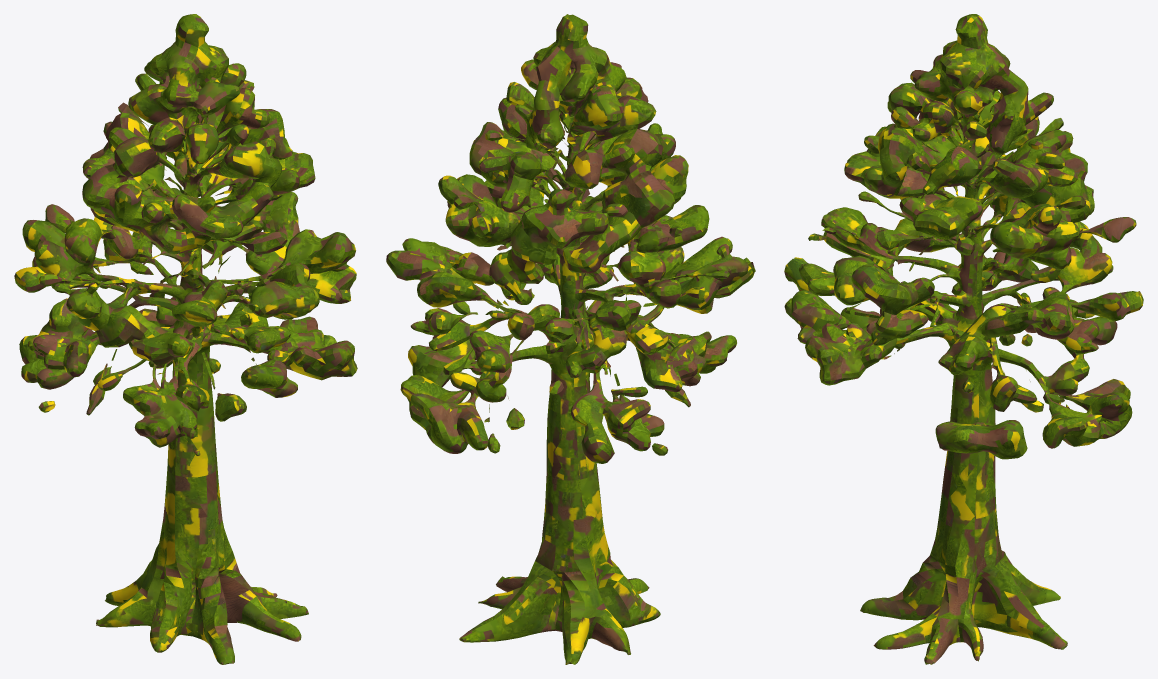
Rendered from veg_conifer_redcedar_01.obj.
3 renders of one model, left to right at view 1: azimuth 30°, elevation 25°; view 2: azimuth 150°, elevation 25°; view 3: azimuth 270°, elevation 25°, orthographic.
Visible parts, largest first — view 1: veg_conifer_redcedar_01; view 2: veg_conifer_redcedar_01; view 3: veg_conifer_redcedar_01.
Boxes of the visible parts, x1,y1,x2,y2 form: veg_conifer_redcedar_01: [14, 14, 357, 664]; veg_conifer_redcedar_01: [386, 14, 755, 664]; veg_conifer_redcedar_01: [784, 14, 1143, 664].
Bounding box in the file's own units: 11.55 × 22.25 × 12.
1 material, 1 textured.
